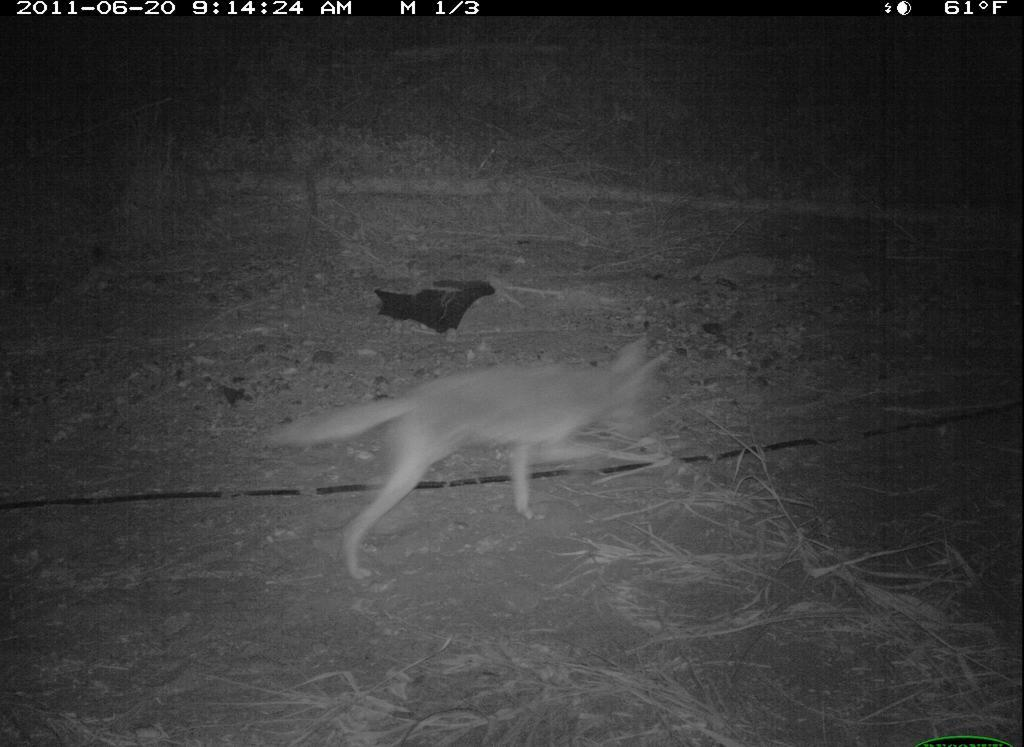coyote: (266, 319, 689, 593)
